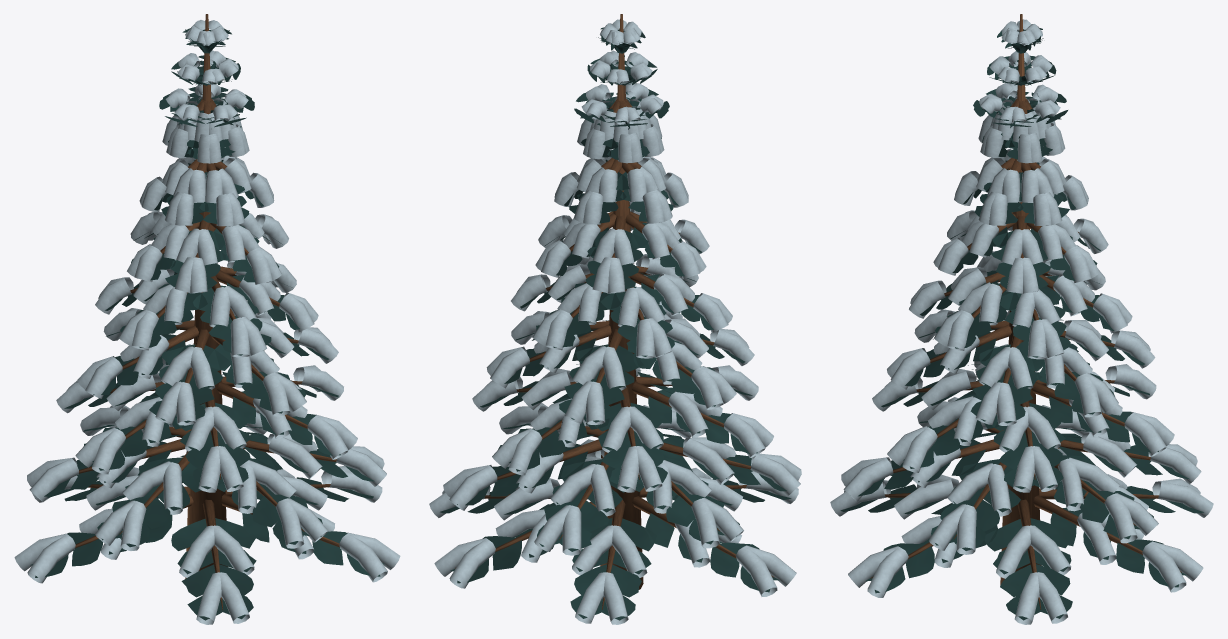
Rendered from prop_fir_1.glb.
The picture shows the model from 3 angles, left to right: view 1: azimuth 30°, elevation 25°; view 2: azimuth 150°, elevation 25°; view 3: azimuth 270°, elevation 25°; orthographic projection.
Parts seen in each view (by area): view 1: Soft_windblown_snow, Fir_needles, Old_oak; view 2: Soft_windblown_snow, Fir_needles, Old_oak; view 3: Soft_windblown_snow, Fir_needles, Old_oak.
Part boxes in pixels (left/top/right/bottom): Soft_windblown_snow: left=14, top=20, right=400, bottom=624; Fir_needles: left=30, top=28, right=384, bottom=620; Old_oak: left=75, top=14, right=339, bottom=609; Soft_windblown_snow: left=429, top=19, right=801, bottom=624; Fir_needles: left=440, top=27, right=791, bottom=620; Old_oak: left=455, top=14, right=774, bottom=609; Soft_windblown_snow: left=830, top=19, right=1213, bottom=624; Fir_needles: left=840, top=26, right=1203, bottom=620; Old_oak: left=870, top=14, right=1181, bottom=609.
Size of the model in its own units: 4.58 by 7.1 by 4.33.
Materials: 3 (3 with a texture image).
